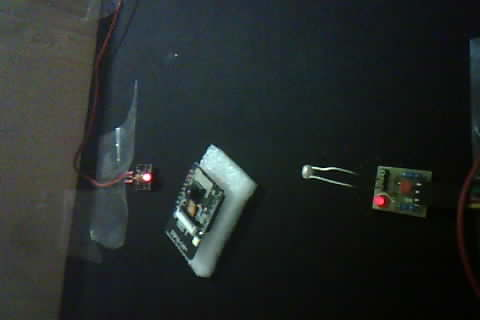esp32: (162, 144, 258, 279)
